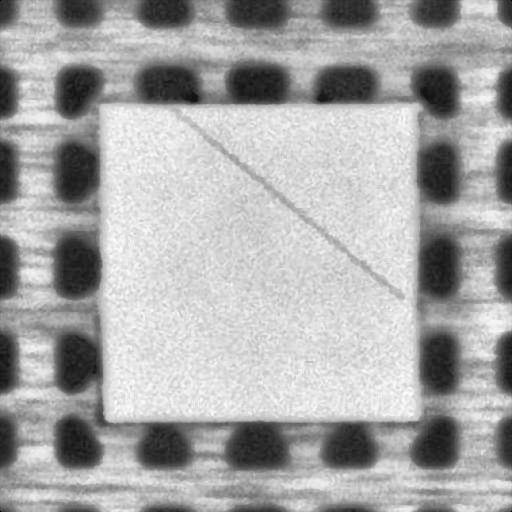DIE_CRACK: (171, 108, 400, 297)
